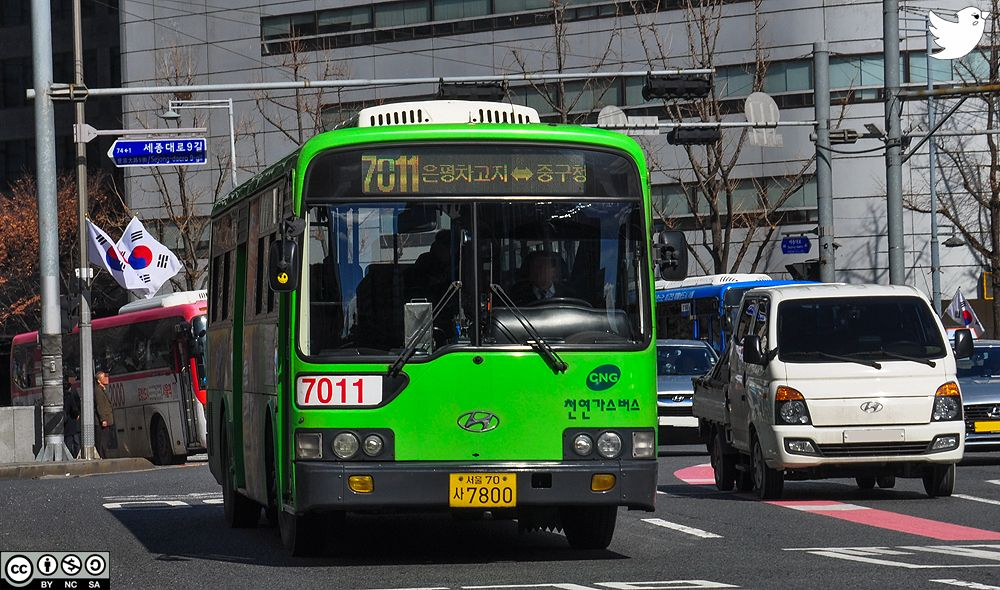bnum: (300, 376, 372, 404)
